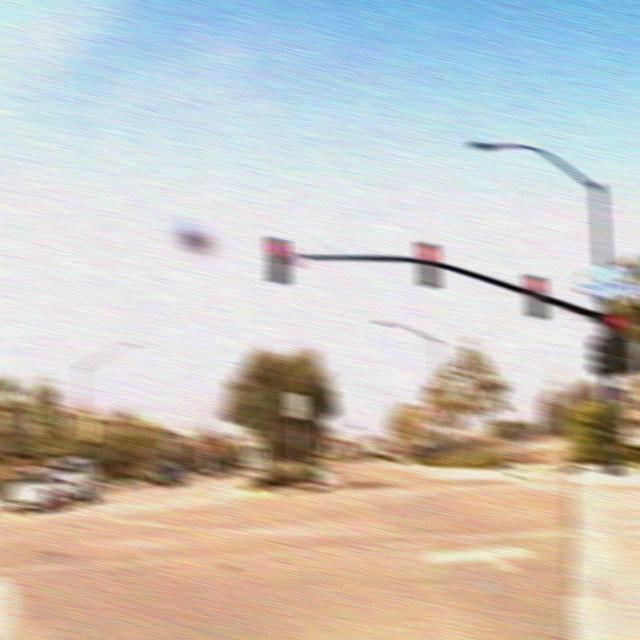speedLimit50: (285, 391, 307, 418)
